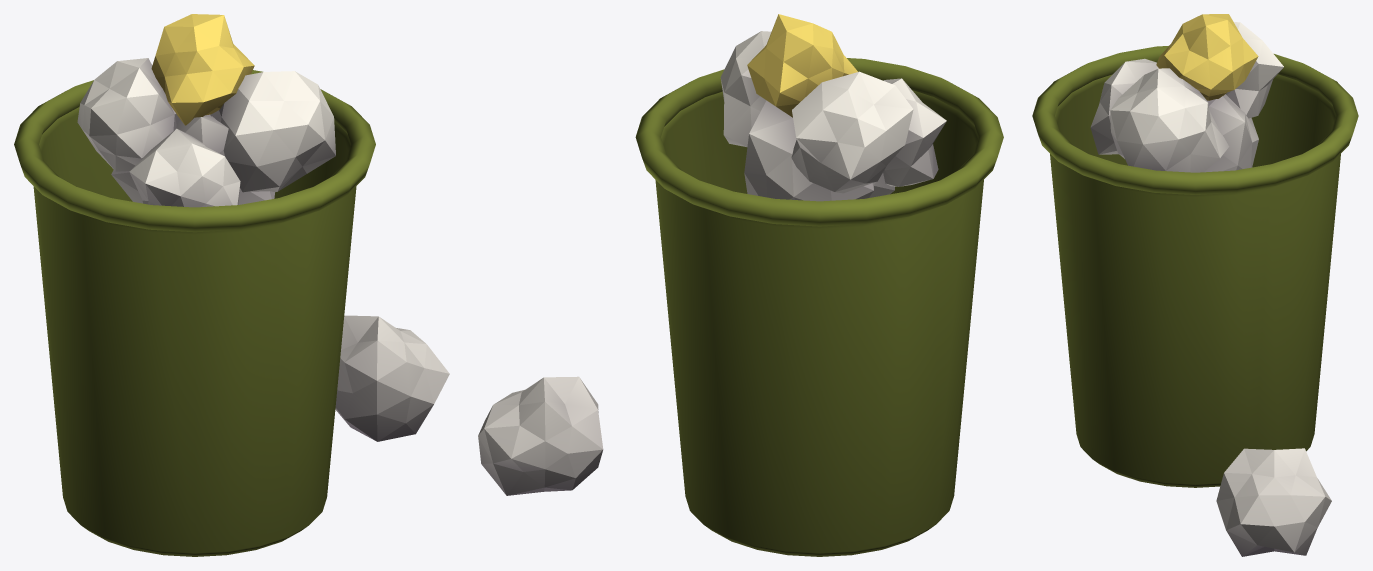
File: trash_can__060.glb
The picture shows the model from 3 angles, left to right: view 1: azimuth 30°, elevation 25°; view 2: azimuth 150°, elevation 25°; view 3: azimuth 270°, elevation 25°; orthographic projection. The views are drawn at different scales.
Visible parts, largest first — view 1: merged_toon_ffffff, merged_toon_ffffff_1; view 2: merged_toon_ffffff, merged_toon_ffffff_1; view 3: merged_toon_ffffff, merged_toon_ffffff_1.
Part boxes in pixels (left/top/right/bottom): merged_toon_ffffff: left=14, top=70, right=375, bottom=556; merged_toon_ffffff_1: left=77, top=14, right=449, bottom=441; merged_toon_ffffff: left=635, top=58, right=1003, bottom=556; merged_toon_ffffff_1: left=478, top=14, right=946, bottom=495; merged_toon_ffffff: left=1032, top=46, right=1358, bottom=487; merged_toon_ffffff_1: left=1090, top=14, right=1331, bottom=556.
Size of the model in its own units: 0.4665 by 0.4929 by 0.3308.
